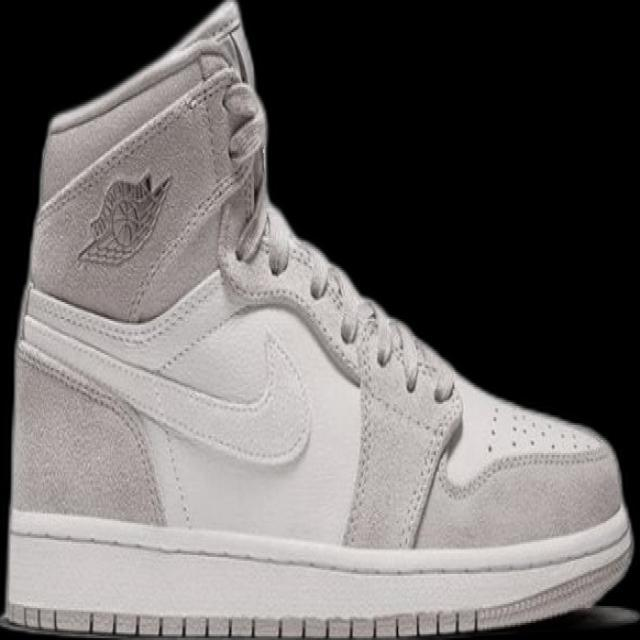J1_InsoleChar: (0, 0, 637, 639)
J1_ShoeLogo: (75, 168, 173, 268)
J1_StitchPattern: (15, 224, 615, 552), (2, 506, 635, 639), (225, 222, 464, 548), (15, 305, 313, 467), (241, 230, 454, 403), (4, 582, 634, 639), (14, 335, 170, 525), (340, 310, 463, 548), (5, 603, 482, 639), (397, 394, 464, 549), (446, 443, 614, 500)
